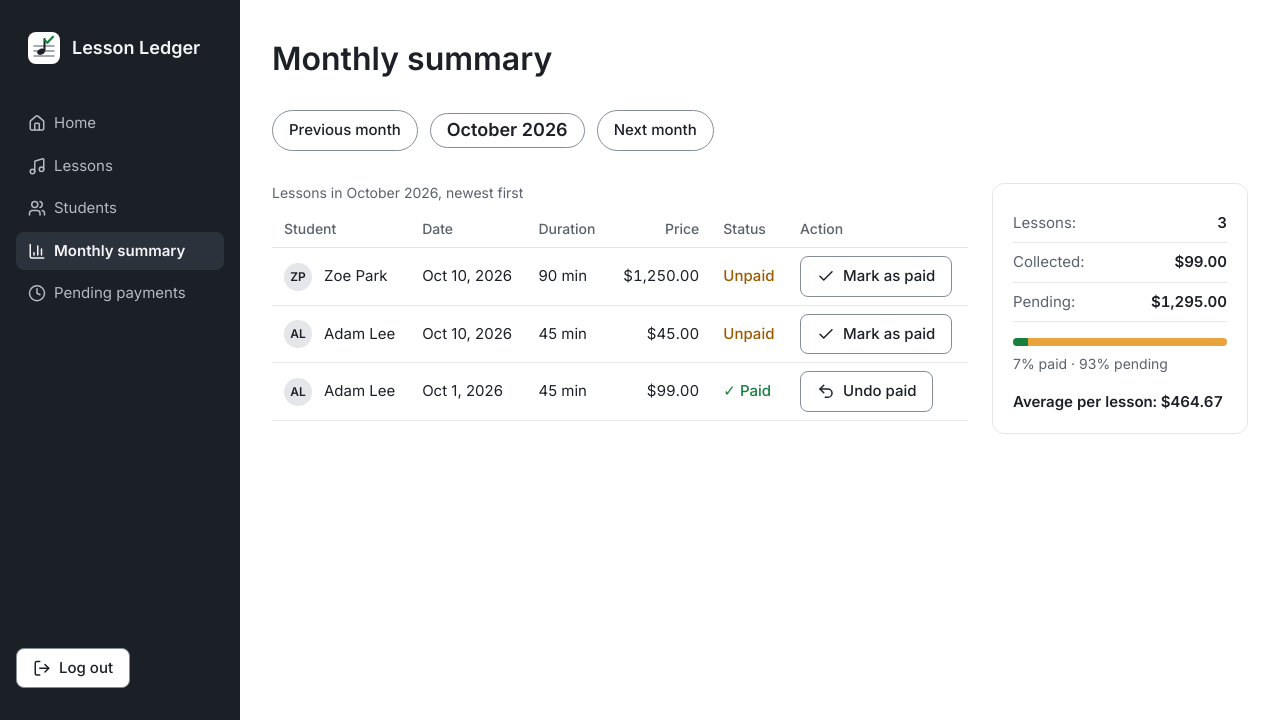
Test: AC-3 mark as paid and undo on /summary › toggles status and button, keeps focus, updates totals and announces both ways
Expected: the table is shown, [272,183,968,421]
Step 1. Click the button with aria-label "Mark as paid: Adam Lee, Oct 10, 2026" → [876, 334], box [800,314,952,354]
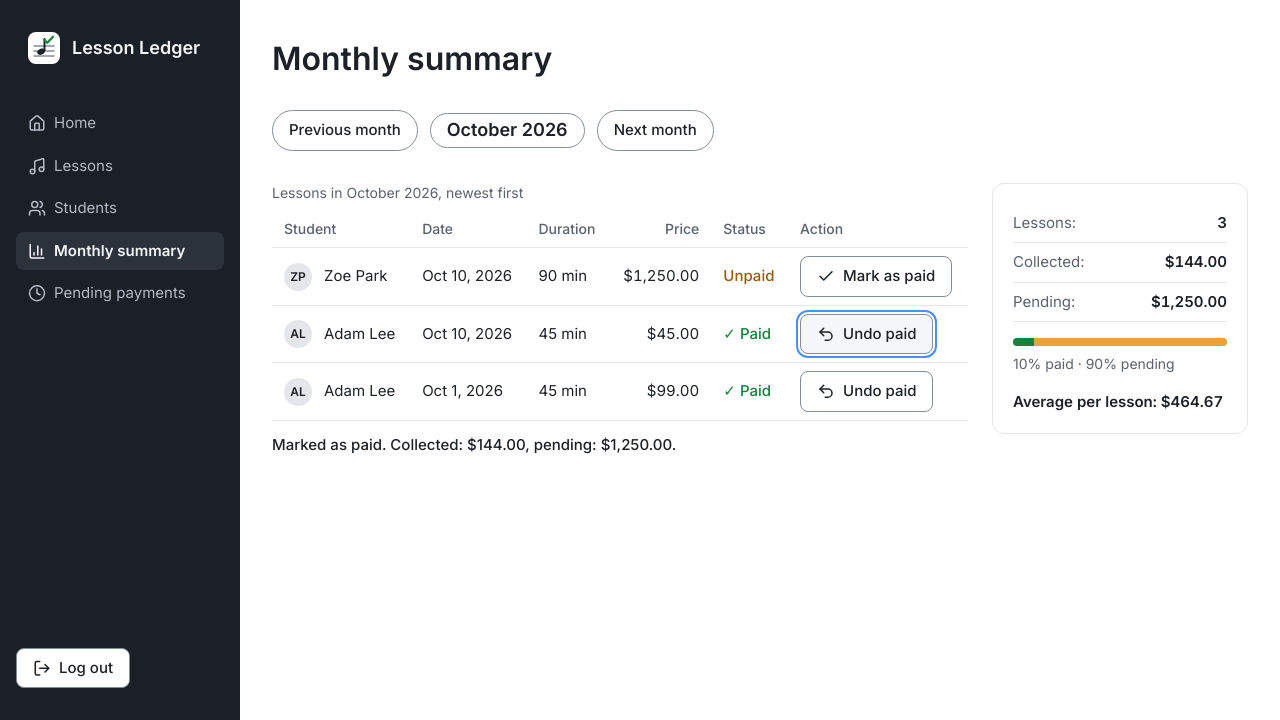
Expected: the button with aria-label "Undo paid: Adam Lee, Oct 10, 2026" reads "Undo paid"
Expected: the cell "Paid" next to "$45.00" is shown, [740,324,771,343]
Expected: the message reads "Marked as paid. Collected: $144.00, pending: $1,250.00.", [272,435,676,454]
Step 2. Click the button with aria-label "Undo paid: Adam Lee, Oct 10, 2026" → [867, 334], box [800,314,934,354]
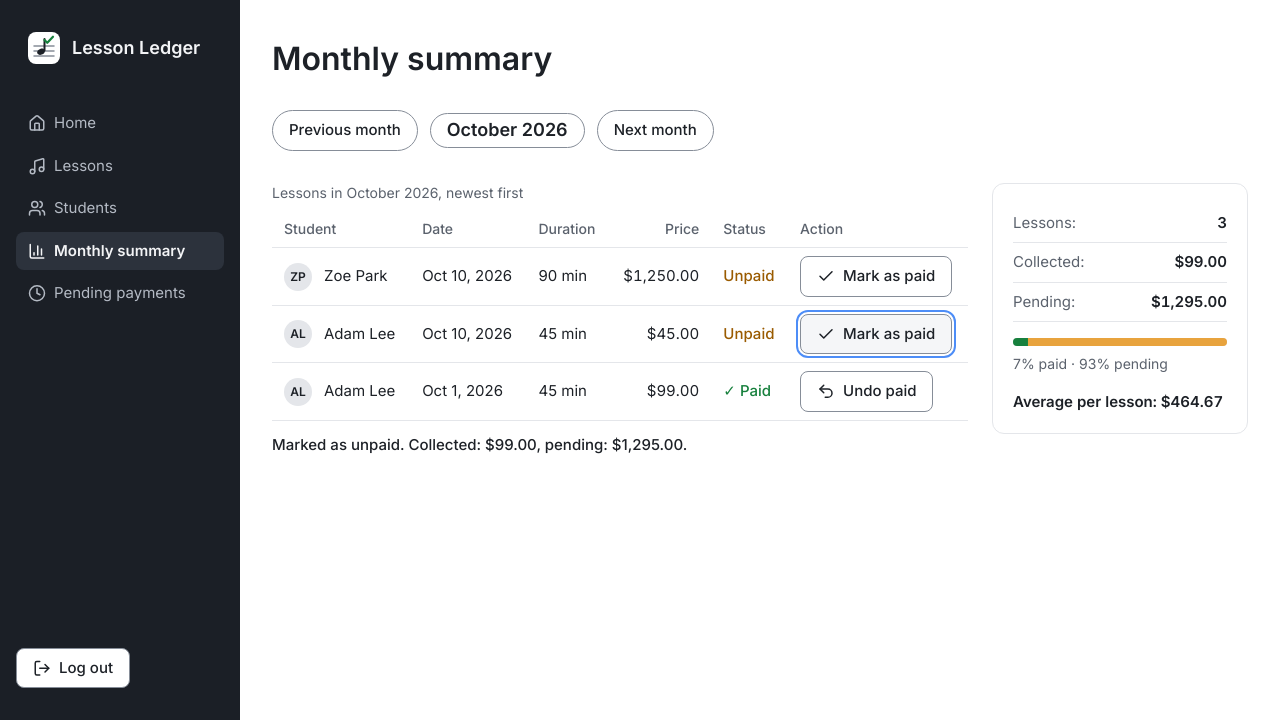
Expected: the cell "Unpaid" next to "$45.00" is shown, [723,324,774,343]
Expected: the message reads "Marked as unpaid. Collected: $99.00, pending: $1,295.00.", [272,435,687,454]
